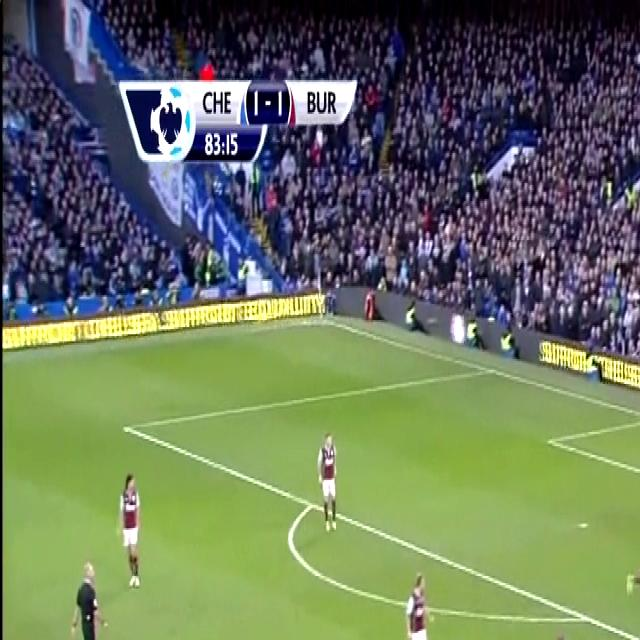referee: (67, 549, 109, 640)
soccer-player: (116, 464, 150, 597), (315, 424, 346, 542), (398, 563, 441, 640), (632, 484, 640, 614), (541, 624, 576, 640)
